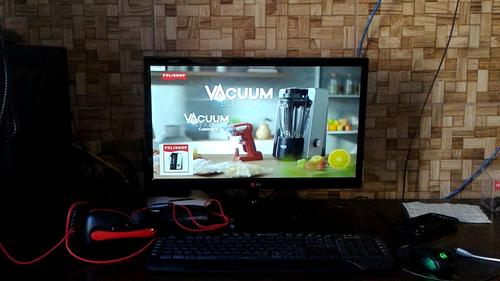Polishop #1: (159, 143, 193, 175)
